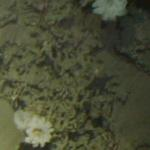dead: (1, 4, 147, 147)
